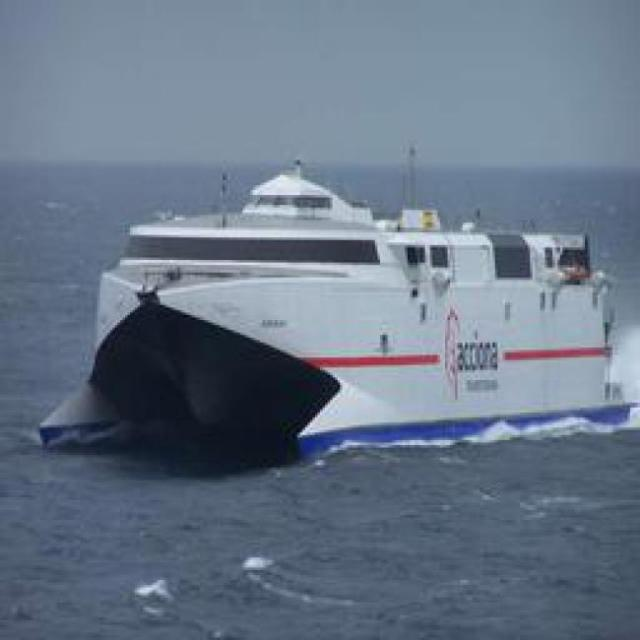boat: (56, 199, 636, 459)
